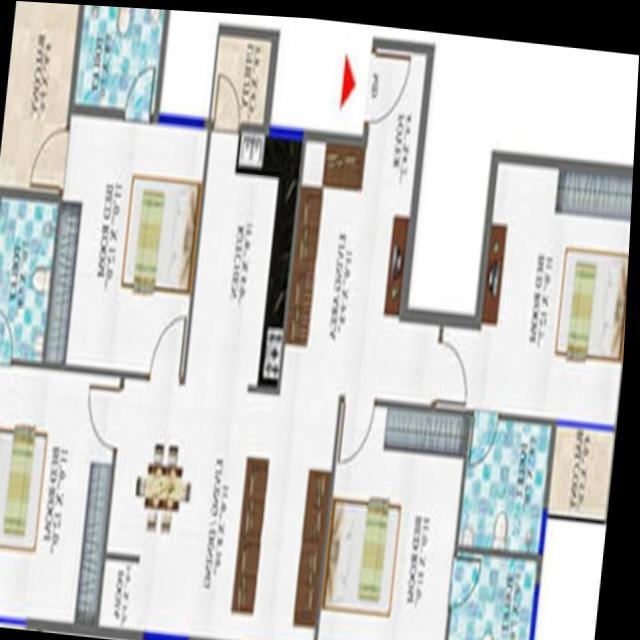Balcony-Sitout: (0, 1, 80, 194), (552, 419, 620, 514)
Bedroom with Toilet: (436, 151, 635, 550), (48, 4, 212, 378), (0, 186, 127, 627), (321, 392, 546, 640)
Dining: (133, 427, 204, 537)
Enterance-Foyer: (338, 36, 428, 141)
Kitchen: (187, 122, 306, 389)
Living: (284, 133, 420, 390)
Pooja: (103, 555, 145, 630)
Toilet: (465, 410, 556, 545), (0, 195, 62, 360), (75, 4, 165, 111), (454, 545, 543, 640)
Utility: (210, 27, 273, 126)
